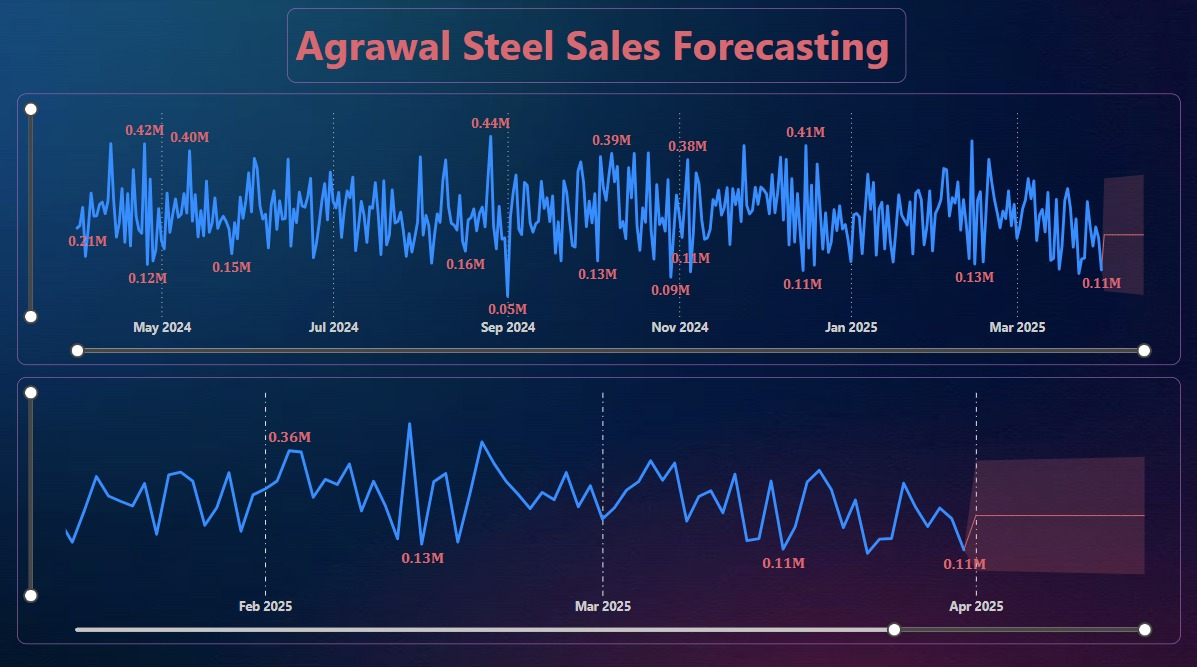

What the dashboard file says about the page in this screenshot:
{"tool":"powerbi","page":{"name":"Sales Forecasting","canvas":[1280,720],"ordinal":1},"visuals":[{"type":"lineChart","fields":{"Y":["Sales Data.Total Sales"],"Category":["DateTable.Date"]},"box":[22.3,404,1234.3,283.1],"z":0},{"type":"lineChart","fields":{"Y":["Sales Data.Total Sales"],"Category":["DateTable.Date"]},"box":[22.3,103.4,1234.3,287.9],"z":1000},{"type":"textbox","box":[308.6,12.7,656.9,79.5],"z":2000}]}

Visuals, with their boxes in screenshot pixels (x1, y1, x2, y2), scaled from the page's 1280x720 canvas onto the 1197x667 screenshot:
lineChart - Sales Data.Total Sales x DateTable.Date: bbox=(21, 374, 1175, 637)
lineChart - Sales Data.Total Sales x DateTable.Date: bbox=(21, 96, 1175, 362)
textbox: bbox=(289, 12, 903, 85)
